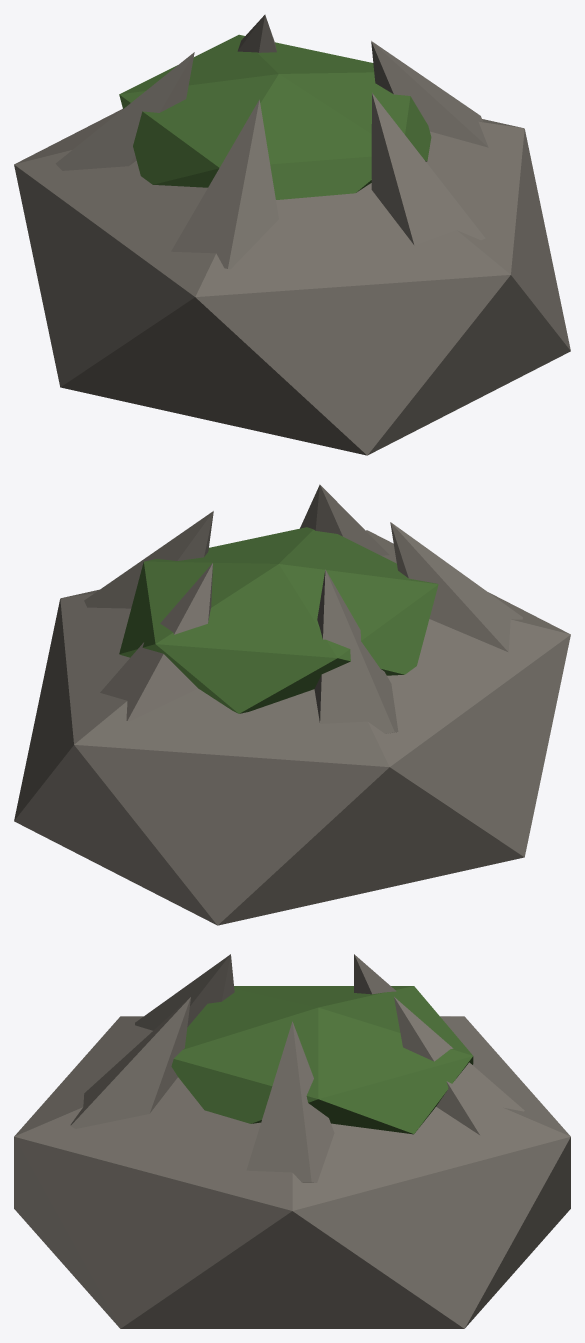
The model's file is Shell.obj.
3 renders of one model, top to bottom at view 1: azimuth 30°, elevation 25°; view 2: azimuth 150°, elevation 25°; view 3: azimuth 270°, elevation 25°, orthographic. The views are drawn at different scales.
Visible parts, largest first — view 1: Shell; view 2: Shell; view 3: Shell.
Boxes of the visible parts, bbox=[...] form: Shell: bbox=[14, 14, 570, 455]; Shell: bbox=[14, 484, 570, 925]; Shell: bbox=[14, 954, 570, 1328].
Bounding box in the file's own units: 0.9839 × 0.7316 × 1.08.
